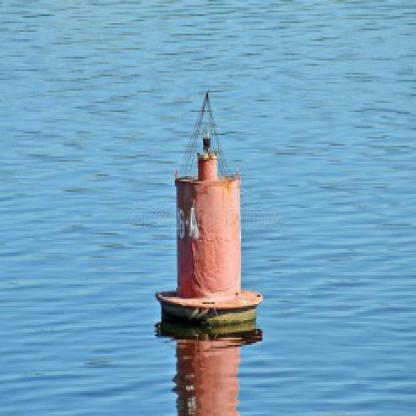buoy: (150, 80, 266, 343)
